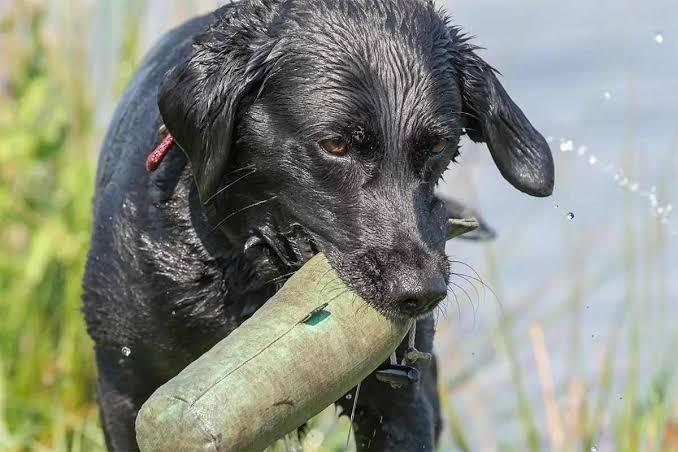adult_dog: (77, 0, 559, 452)
